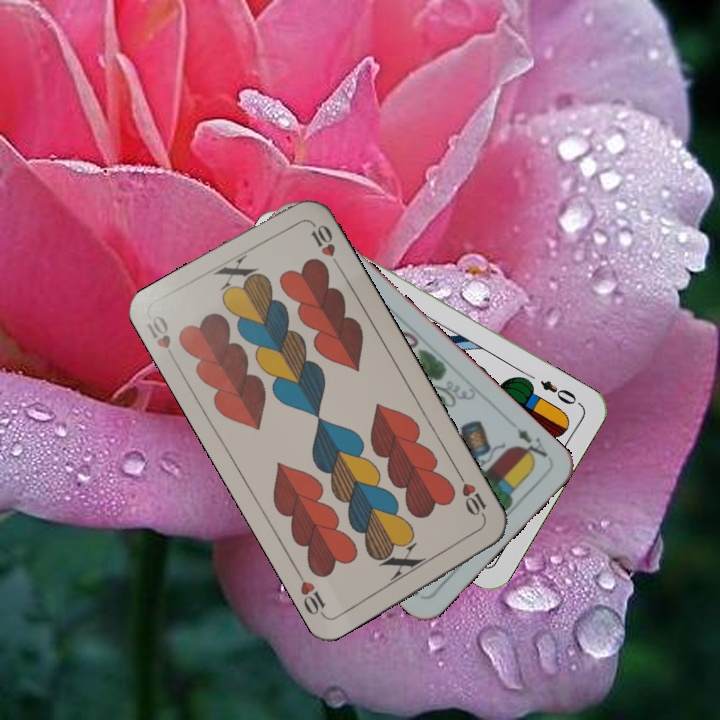EA: (511, 424, 550, 465)
EO: (536, 376, 579, 408)
H10: (141, 311, 180, 367), (454, 469, 490, 524)
